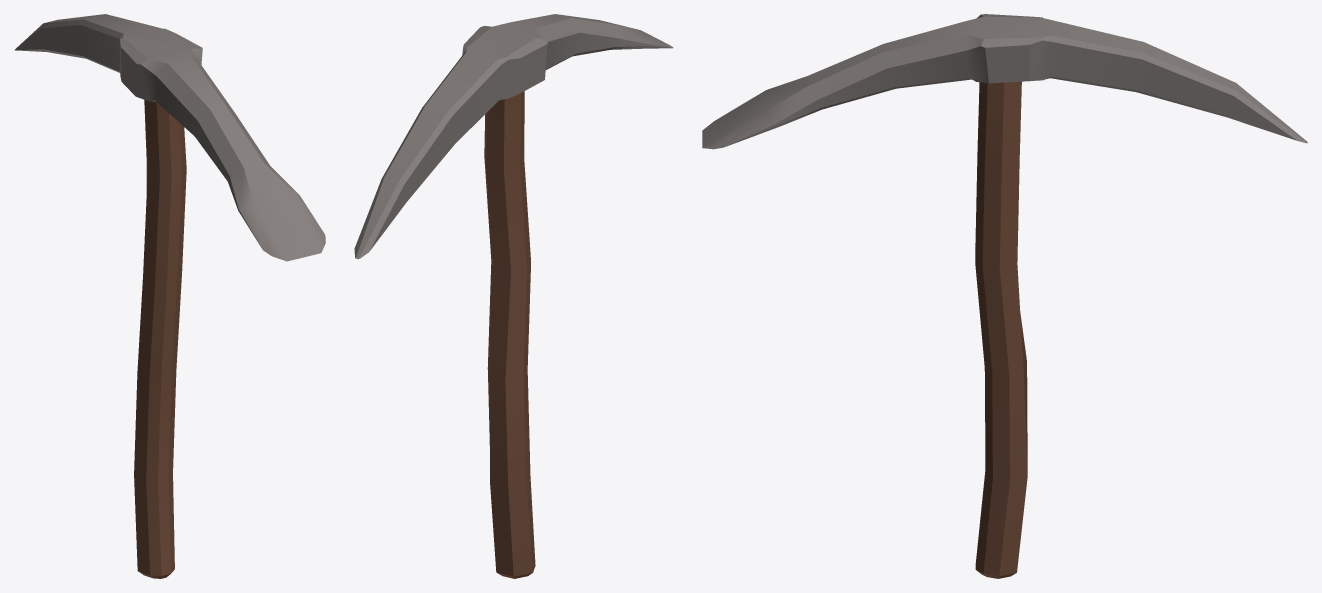
Rendered from Pickaxe.fbx.
3 views of the same model, side by side, from view 1: azimuth 30°, elevation 25°; view 2: azimuth 150°, elevation 25°; view 3: azimuth 270°, elevation 25° (orthographic). The views are drawn at different scales.
Parts seen in each view (by area): view 1: Pickaxe1; view 2: Pickaxe1; view 3: Pickaxe1.
Boxes of the visible parts, <box> form: Pickaxe1: <box>14,14,325,578</box>; Pickaxe1: <box>354,14,673,578</box>; Pickaxe1: <box>702,14,1307,578</box>.
Bounding box in the file's own units: 20.53 × 155 × 155.
